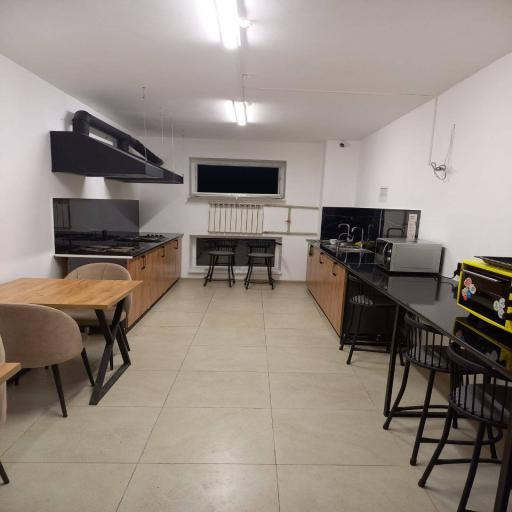bottle: (0, 302, 94, 417), (62, 262, 132, 370), (242, 240, 282, 290), (204, 238, 239, 288)
phone: (0, 278, 143, 405)
